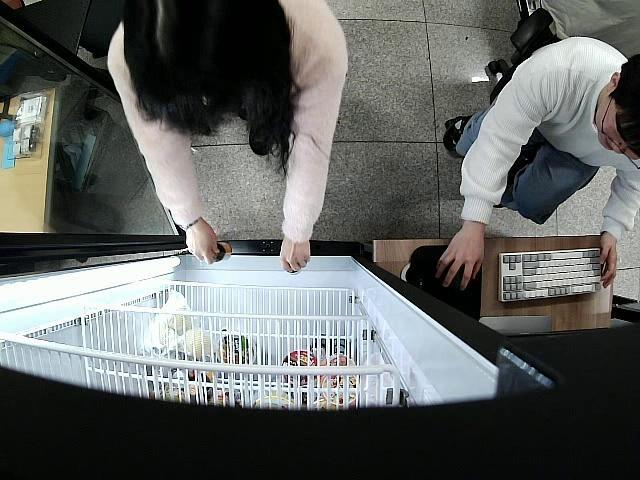17_vita500: (212, 242, 235, 263)
